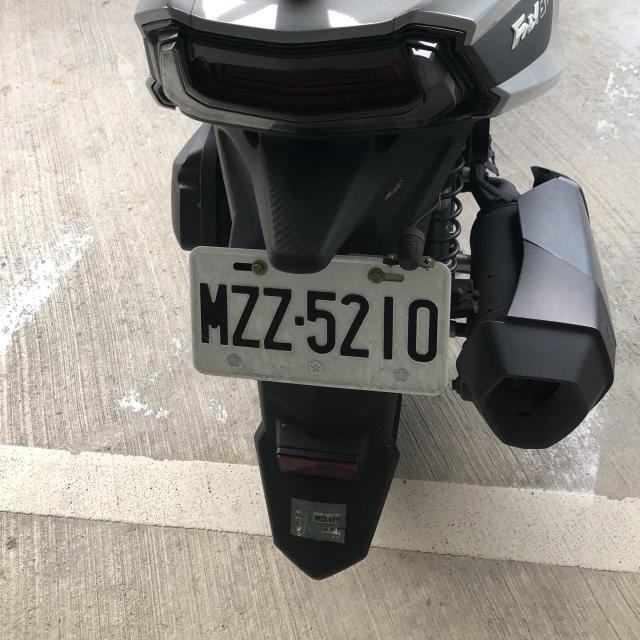W: (181, 240, 456, 394)
